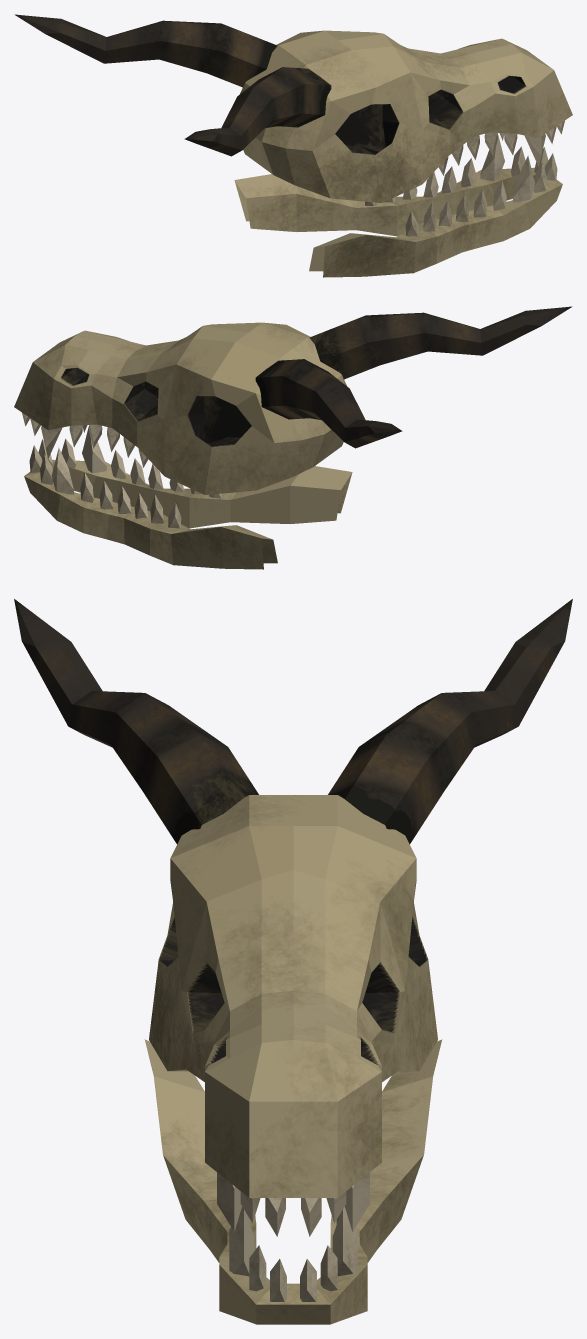
File: dragon_skull.obj
3 views of the same model, one above another, from view 1: azimuth 30°, elevation 25°; view 2: azimuth 150°, elevation 25°; view 3: azimuth 270°, elevation 25° (orthographic). The views are drawn at different scales.
Visible parts, largest first — view 1: dragon_skull_GEO, dragon_jaw_GEO; view 2: dragon_skull_GEO, dragon_jaw_GEO; view 3: dragon_skull_GEO, dragon_jaw_GEO.
Boxes of the visible parts, x1,y1,x2,y2 form: dragon_skull_GEO: (14, 14, 572, 202); dragon_jaw_GEO: (234, 133, 562, 277); dragon_skull_GEO: (14, 306, 572, 494); dragon_jaw_GEO: (24, 425, 352, 569); dragon_skull_GEO: (14, 599, 572, 1236); dragon_jaw_GEO: (144, 1039, 442, 1324).
Bounding box in the file's own units: 12.94 × 6.54 × 8.26.
1 material, 1 textured.
